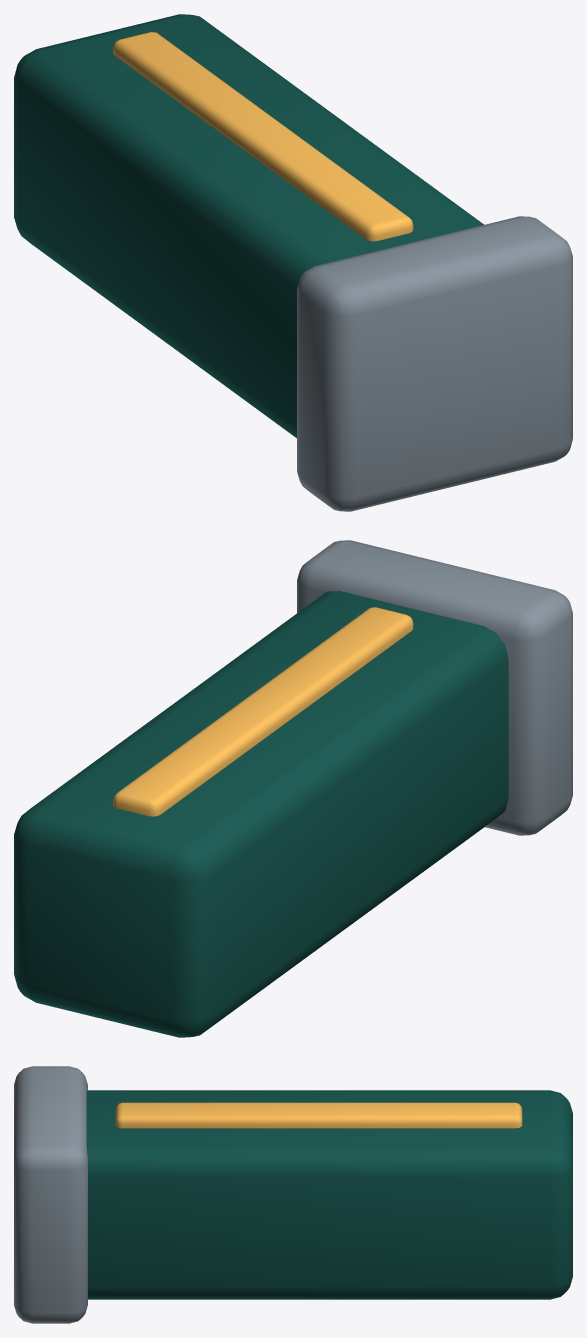
File: s02_launcher.glb
3 renders of one model, top to bottom at view 1: azimuth 30°, elevation 25°; view 2: azimuth 150°, elevation 25°; view 3: azimuth 270°, elevation 25°, orthographic. The views are drawn at different scales.
Visible parts, largest first — view 1: s02_launcher_Body, RearBell, s02_launcher_Sight; view 2: s02_launcher_Body, RearBell, s02_launcher_Sight; view 3: s02_launcher_Body, RearBell, s02_launcher_Sight.
Boxes of the visible parts, x1,y1,x2,y2 form: s02_launcher_Body: (14, 14, 484, 438); RearBell: (297, 216, 572, 511); s02_launcher_Sight: (113, 32, 413, 241); s02_launcher_Body: (14, 591, 508, 1037); RearBell: (297, 540, 572, 835); s02_launcher_Sight: (113, 607, 413, 816); s02_launcher_Body: (86, 1090, 572, 1299); RearBell: (14, 1066, 87, 1323); s02_launcher_Sight: (115, 1102, 522, 1128).
Bounding box in the file's own units: 0.48 × 0.42 × 1.21.
